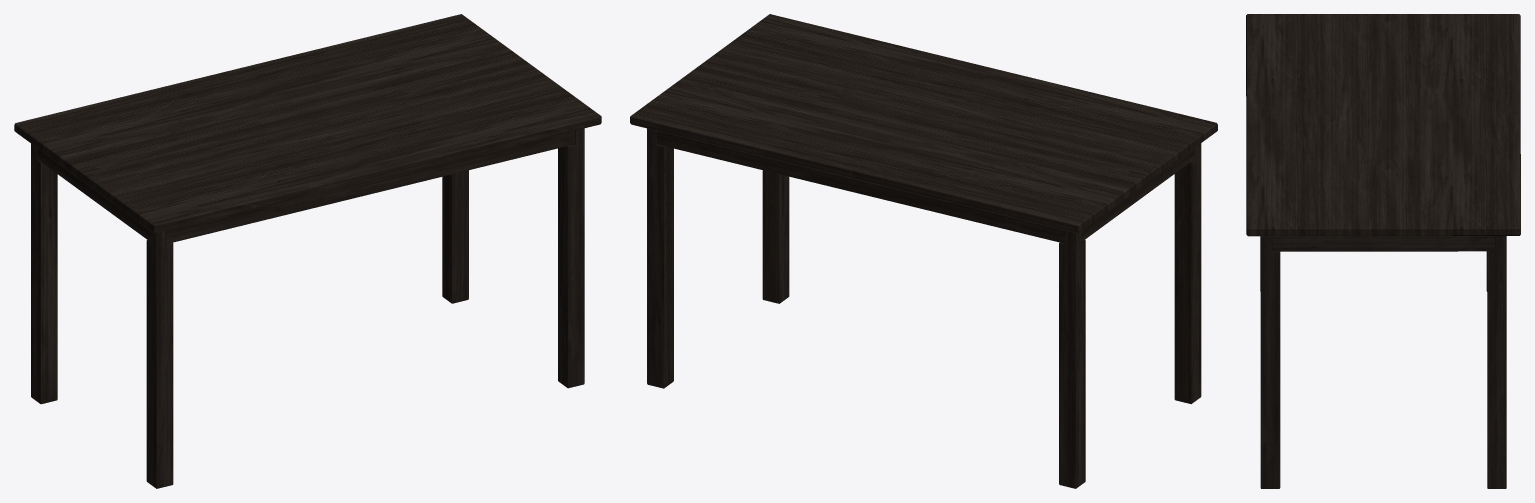
The model's file is IndoorTable_adapted.glb.
The picture shows the model from 3 angles, left to right: view 1: azimuth 30°, elevation 25°; view 2: azimuth 150°, elevation 25°; view 3: azimuth 270°, elevation 25°; orthographic projection. The views are drawn at different scales.
Size of the model in its own units: 1.46 by 0.8434 by 0.7901.
1 material, 1 textured.
